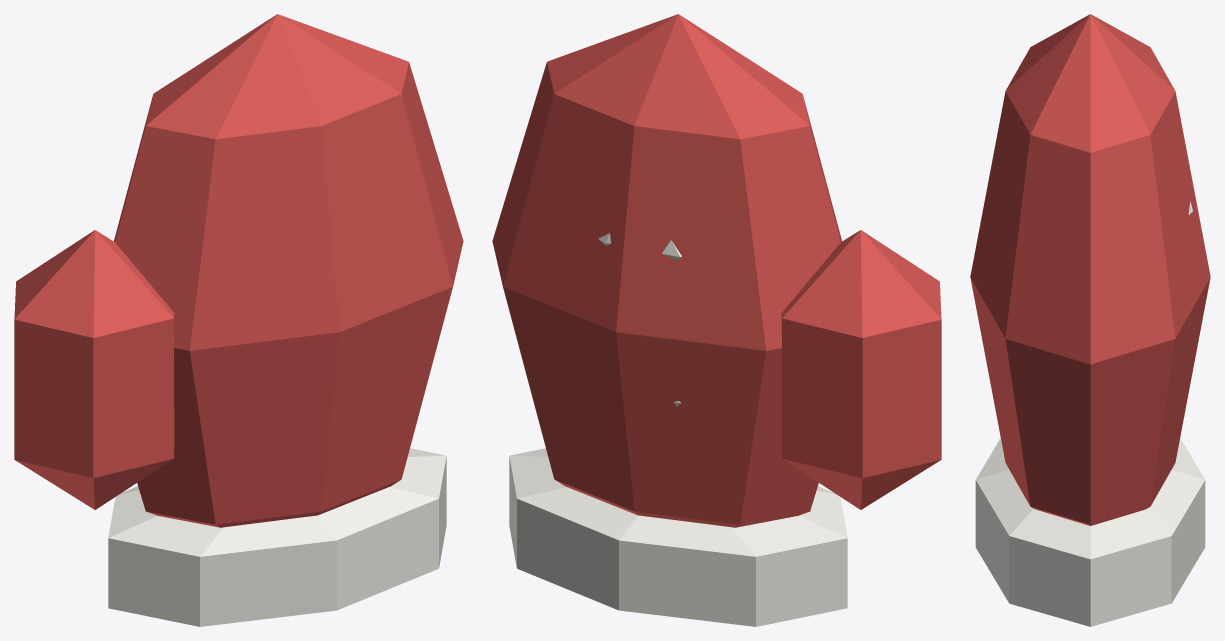
Rendered from deco_mitten.obj.
3 views of the same model, side by side, from view 1: azimuth 30°, elevation 25°; view 2: azimuth 150°, elevation 25°; view 3: azimuth 270°, elevation 25° (orthographic). The views are drawn at different scales.
Visible parts, largest first — view 1: deco_mitten; view 2: deco_mitten; view 3: deco_mitten.
Part boxes in pixels (left/top/right/bottom): deco_mitten: left=14, top=14, right=463, bottom=626; deco_mitten: left=492, top=14, right=941, bottom=626; deco_mitten: left=970, top=14, right=1210, bottom=626.
Bounding box in the file's own units: 0.0241 × 0.0302 × 0.0116.
Materials: 1 (1 with a texture image).
